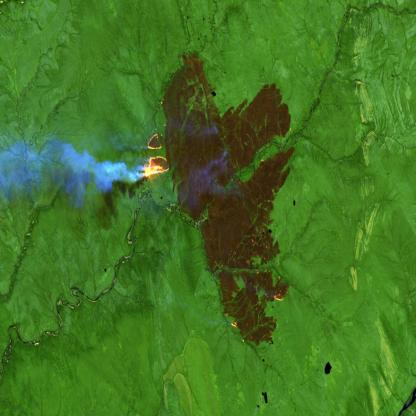fire: (138, 125, 175, 187)
